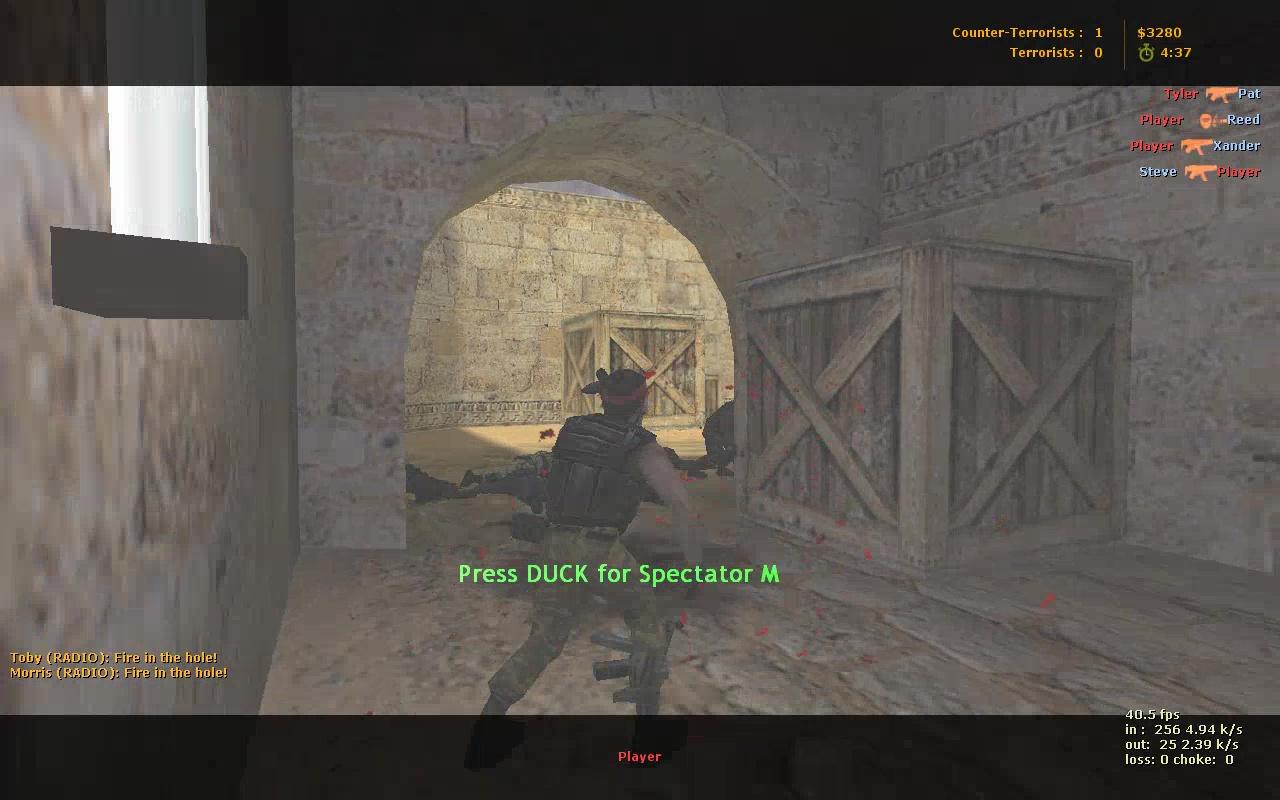dead: (402, 456, 547, 504)
terr1: (463, 368, 725, 776)
